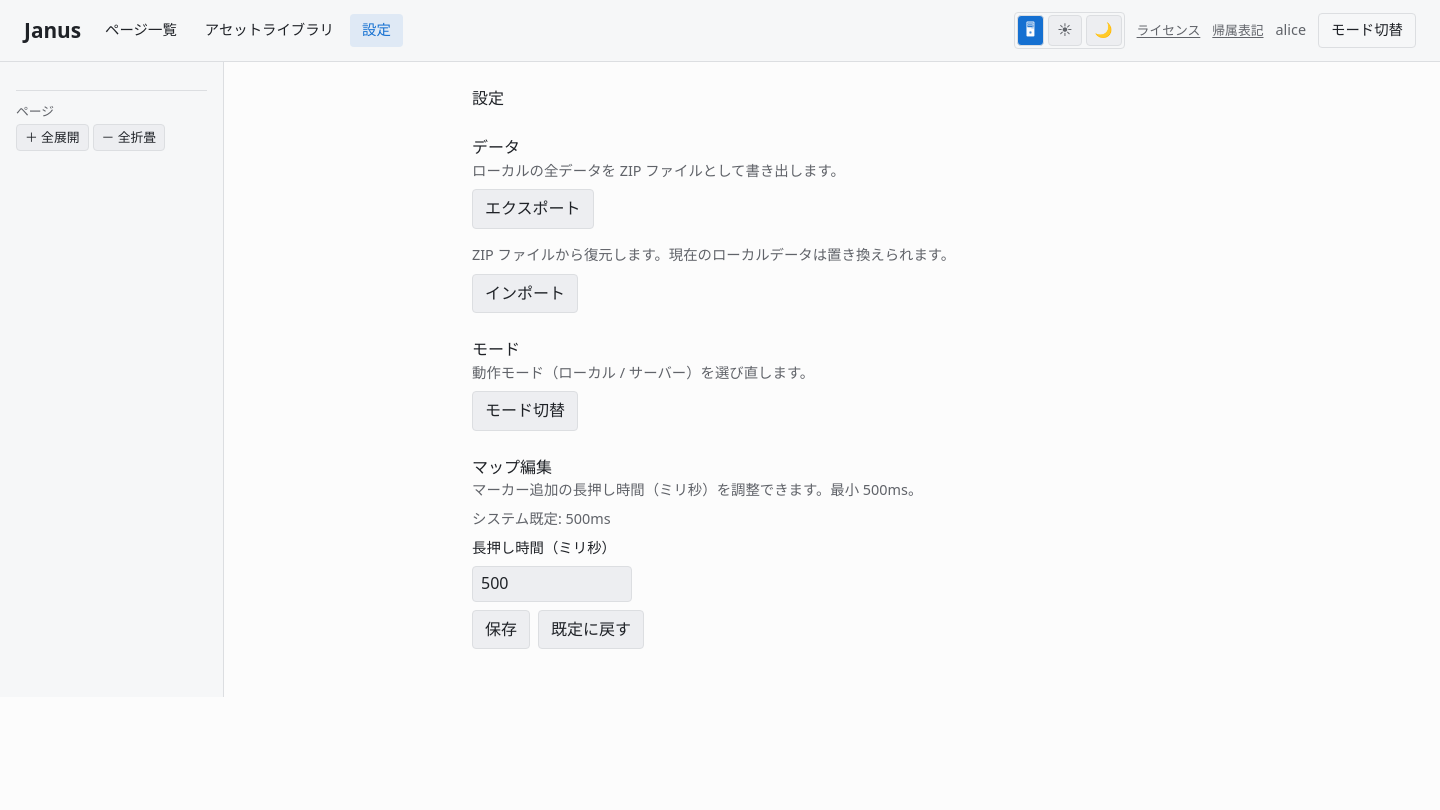
Scenario: SettingsPage（マップ編集セクション） › 500 未満の入力は保存されず role=alert の警告を表示する
Expected: the heading "設定" is shown, [472,87,504,109]
Replace the text in the number field labelled "長押し時間（ミリ秒）" with "300" at point(552, 584), box [472,566,632,602]
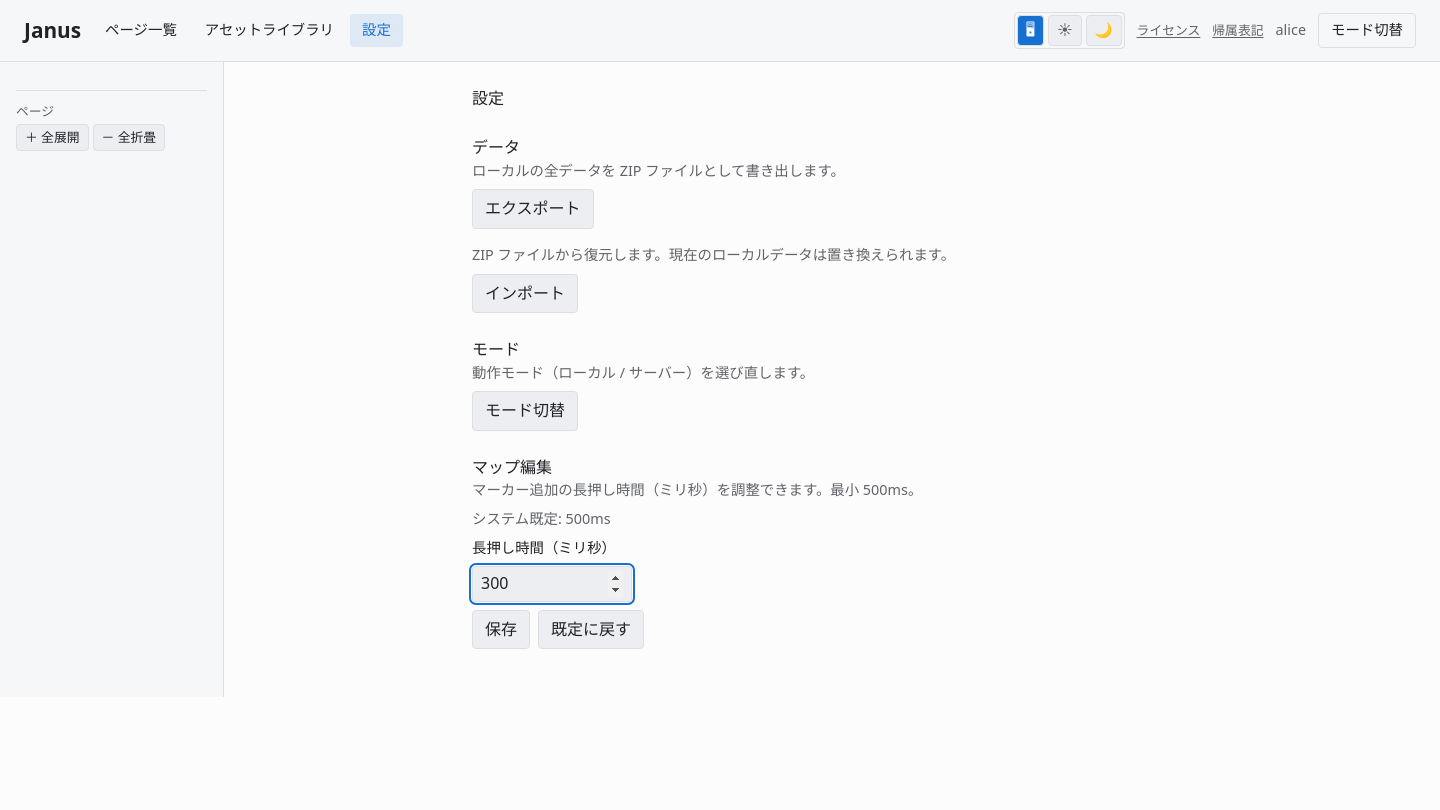
Click the button "保存" at point(501, 630), box [472,610,530,649]
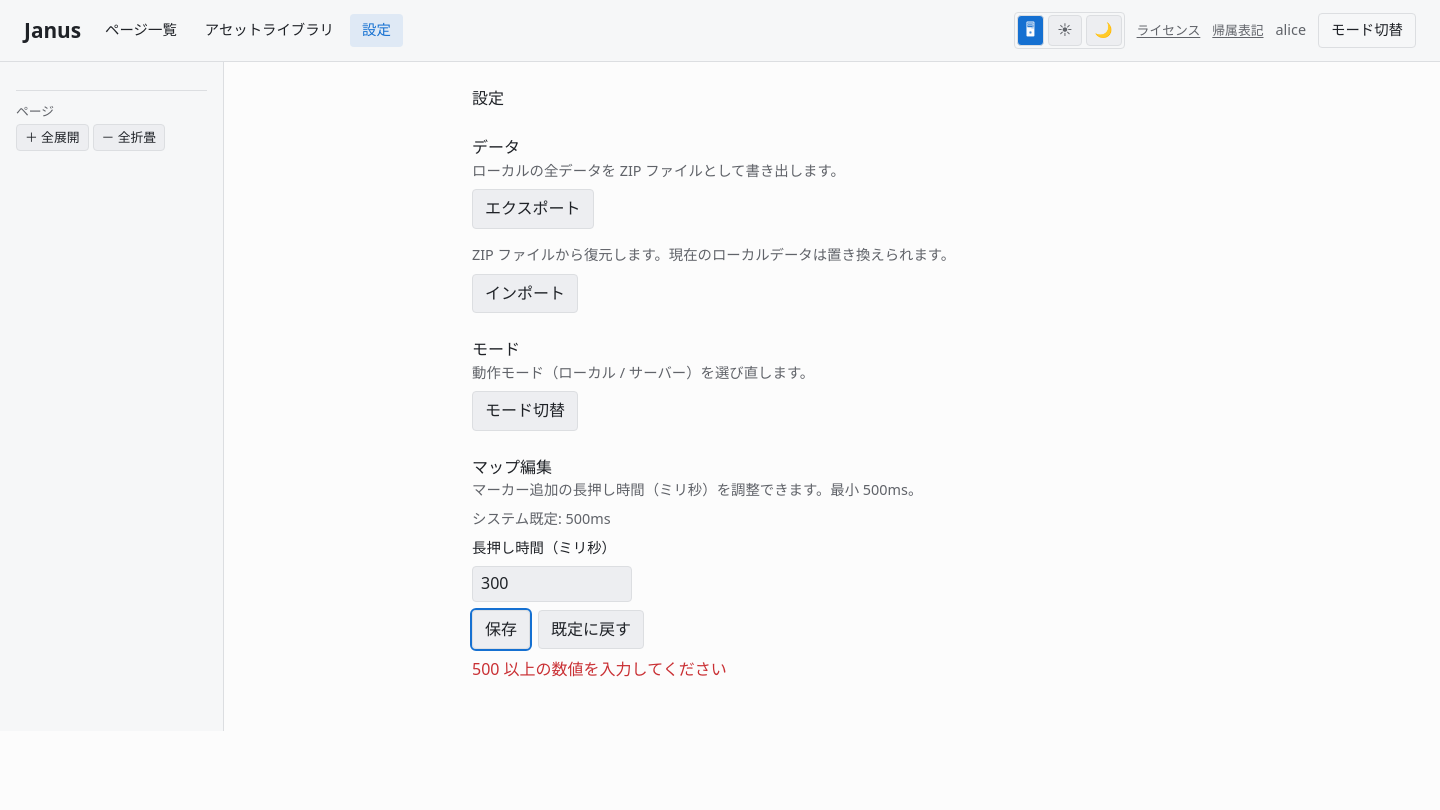
Expected: the message reads "500 以上の数値を入力してください", [472,658,727,680]
